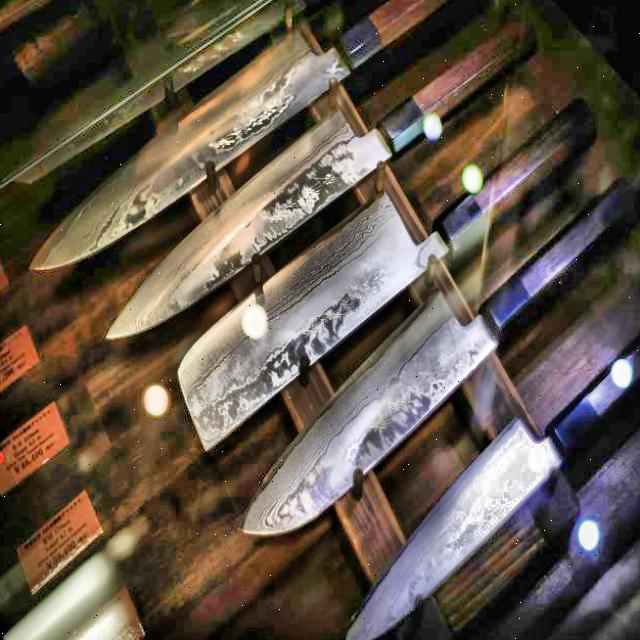knife: (239, 179, 640, 546), (176, 110, 594, 453), (105, 34, 539, 358), (25, 0, 429, 286), (353, 350, 640, 640)
